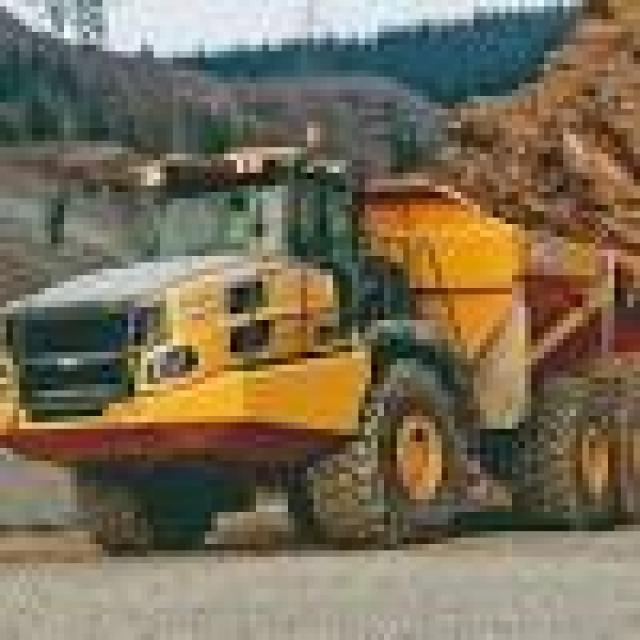dump_truck: (0, 122, 634, 544)
